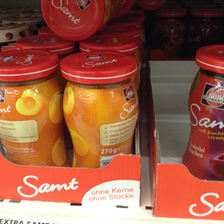jam: (60, 51, 140, 168), (1, 49, 72, 167), (184, 44, 224, 180)
